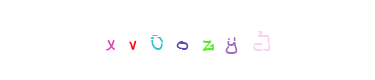0: (142, 0, 222, 80)
3: (168, 0, 248, 80)
O: (143, 0, 223, 80)
V: (117, 0, 197, 80)
X: (93, 0, 173, 80)
Y: (147, 0, 227, 80)
Z: (146, 0, 226, 80)
